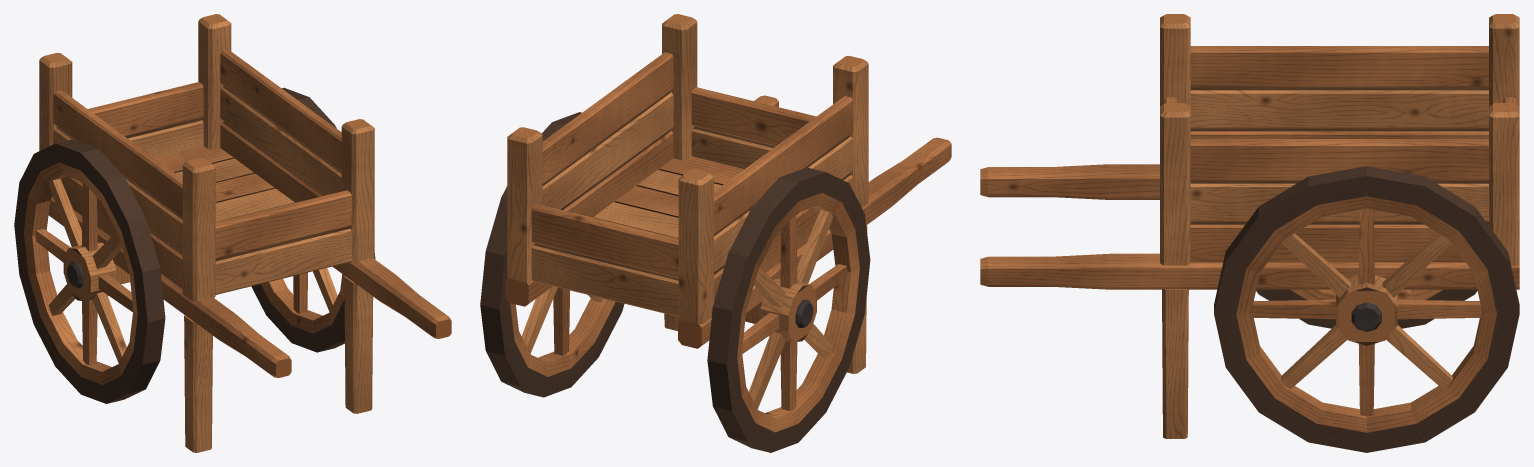
The model's file is FMS_Stall_Cart_Empty.fbx.
The picture shows the model from 3 angles, left to right: view 1: azimuth 30°, elevation 25°; view 2: azimuth 150°, elevation 25°; view 3: azimuth 270°, elevation 25°; orthographic projection. The views are drawn at different scales.
Visible parts, largest first — view 1: item_stalls_cart_empty; view 2: item_stalls_cart_empty; view 3: item_stalls_cart_empty.
Part boxes in pixels (bbox=[...]): item_stalls_cart_empty: bbox=[14, 14, 451, 452]; item_stalls_cart_empty: bbox=[480, 14, 951, 452]; item_stalls_cart_empty: bbox=[980, 14, 1519, 452].
Bounding box in the file's own units: 0.904 × 1 × 1.5.
Materials: 1 (1 with a texture image).
